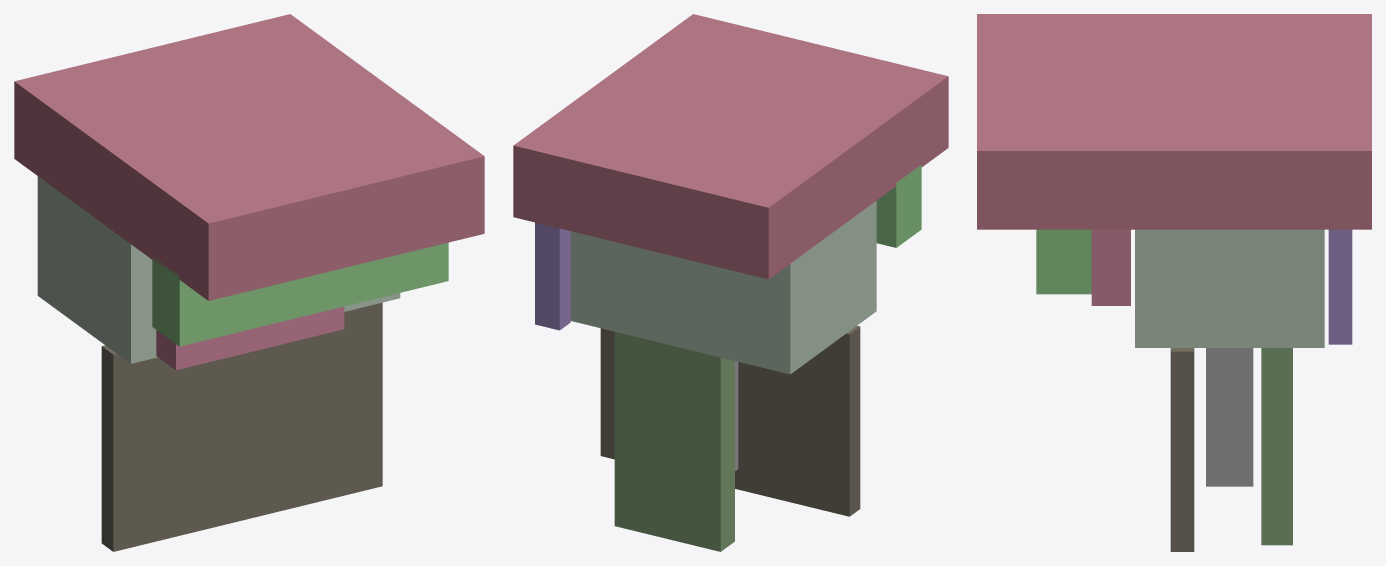
The picture shows the model from 3 angles, left to right: view 1: azimuth 30°, elevation 25°; view 2: azimuth 150°, elevation 25°; view 3: azimuth 270°, elevation 25°; orthographic projection. The views are drawn at different scales.
Visible parts, largest first — view 1: world; view 2: world; view 3: world.
Part boxes in pixels (x1,y1,x2,y2): world: [14, 14, 484, 551]; world: [513, 14, 948, 551]; world: [977, 14, 1371, 551].
Size of the model in its own units: 4.1 by 6 by 5.
